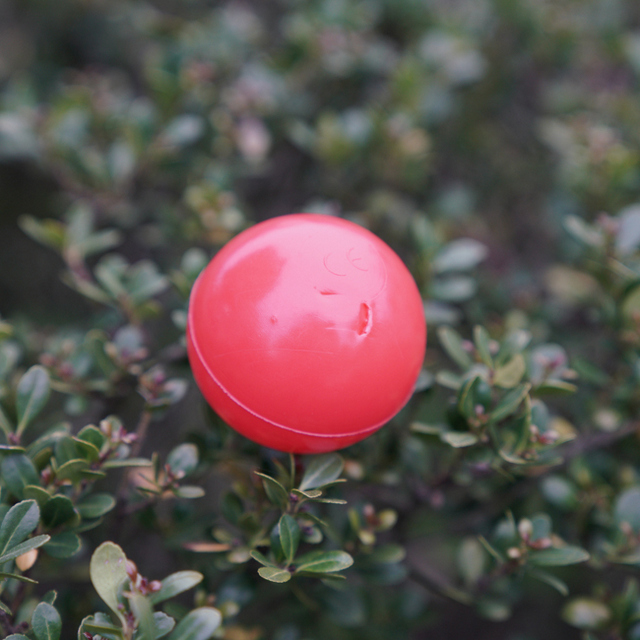Ball: (193, 213, 425, 452)
